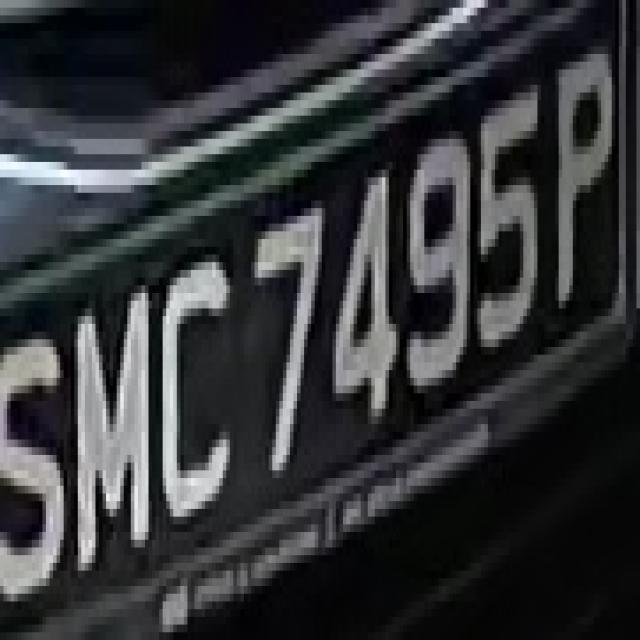4: (322, 162, 410, 455)
5: (470, 85, 552, 347)
7: (247, 208, 322, 501)
9: (399, 131, 474, 401)
C: (156, 262, 233, 548)
M: (67, 278, 152, 586)
P: (537, 38, 619, 324)
S: (4, 301, 67, 617)
